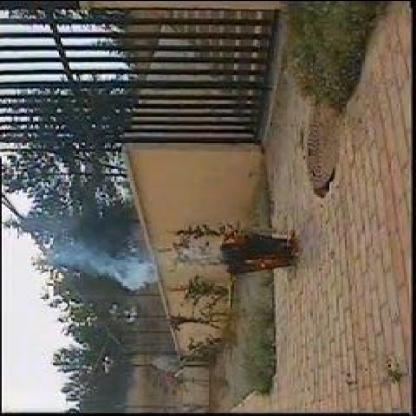-: (63, 249, 157, 292)
foggia-v2-map80-epoch100 - v1 4323: (246, 255, 286, 269)
